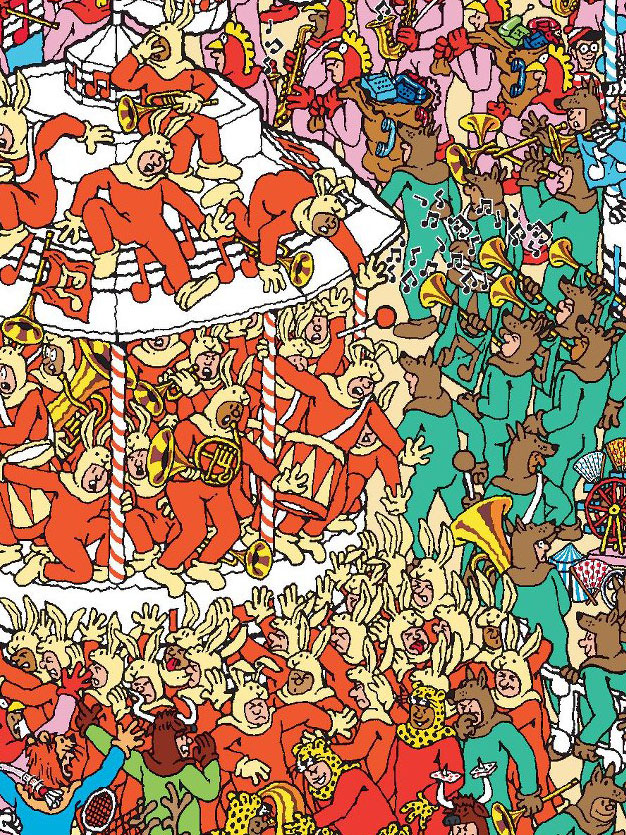waldo: (565, 24, 604, 72)
